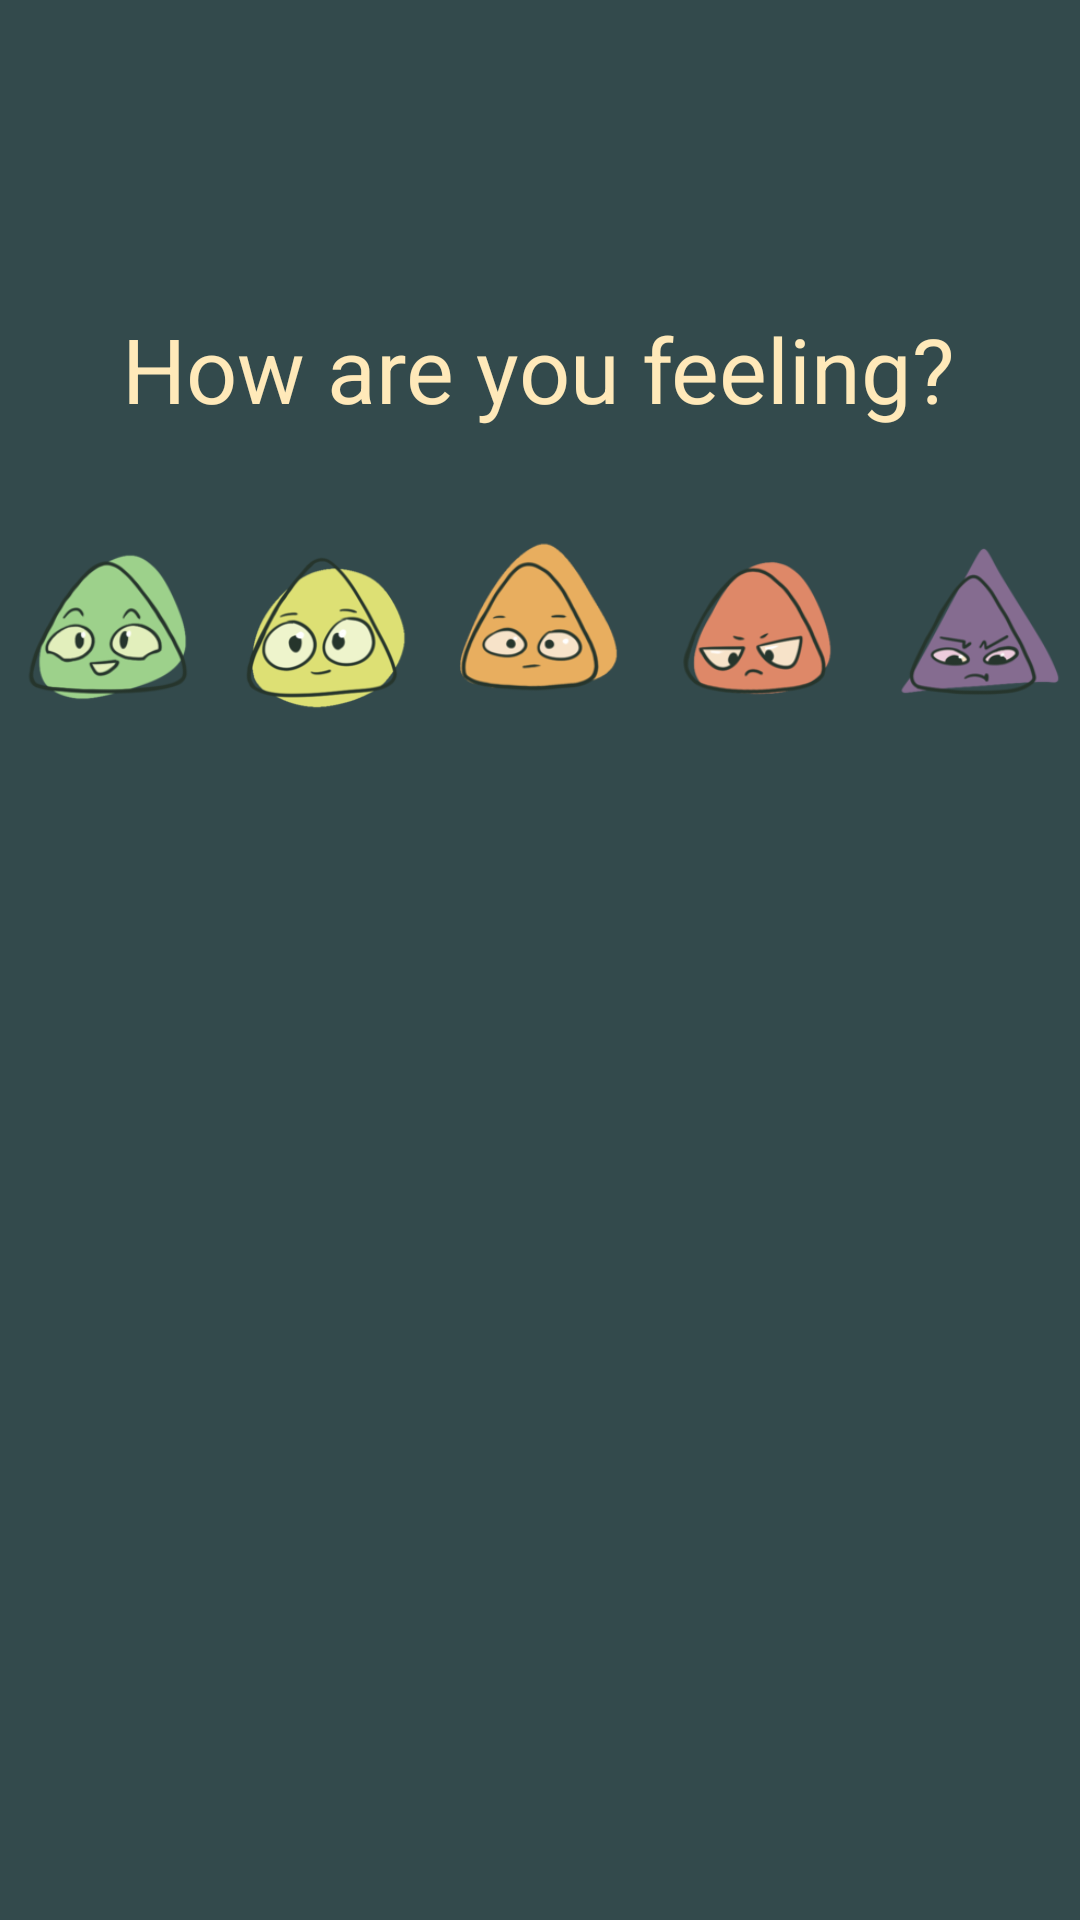

Point at icon controls on the screen. Image size 1080 × 1920, points as (x,y).
awfulicon: (980,621)
badicon: (757,628)
goodicon: (326,633)
greaticon: (108,627)
mehicon: (538,616)
